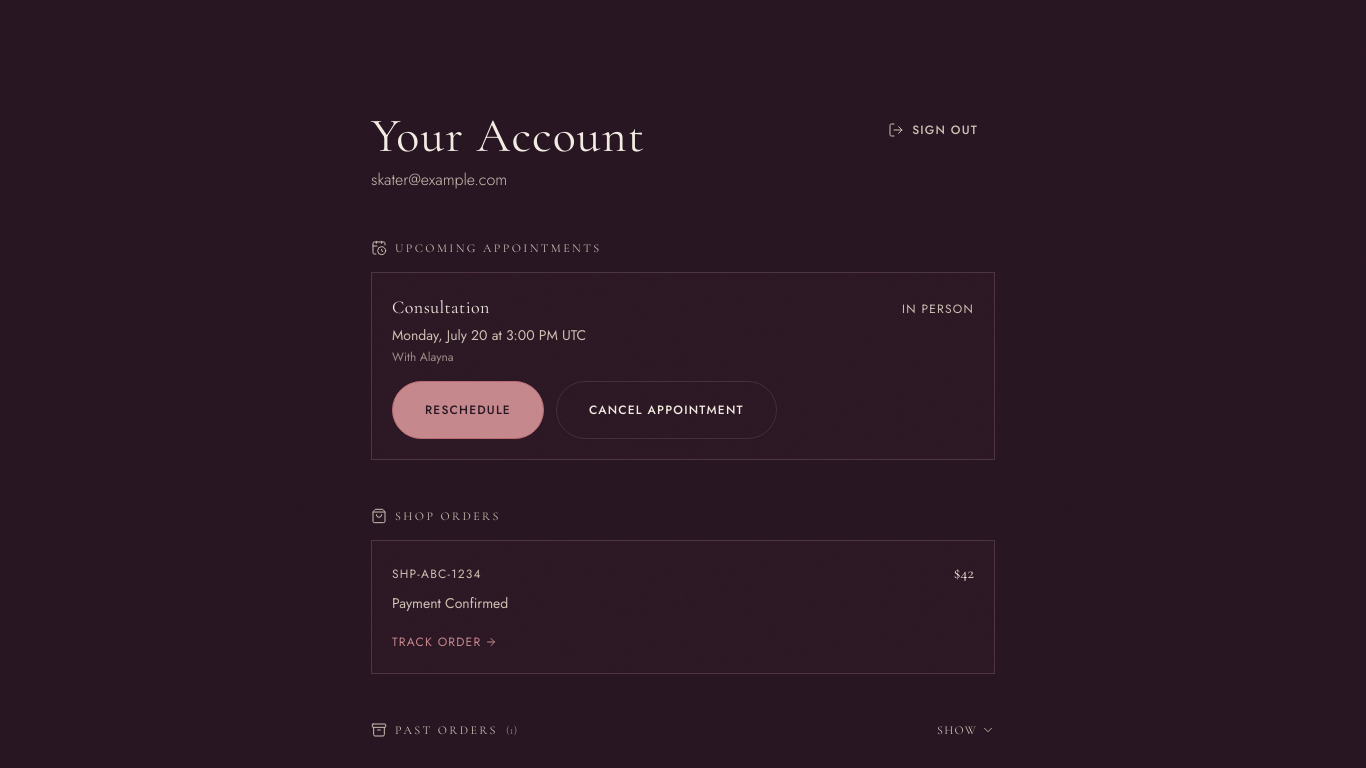
Scenario: Account dashboard › badges a cancelled order and drops its invoice link
The width and height of the screenshot is (1366, 768).
Click the button with test id "button-toggle-past-orders" at (966, 730), box [937,722,995,738]
(page scrolled)
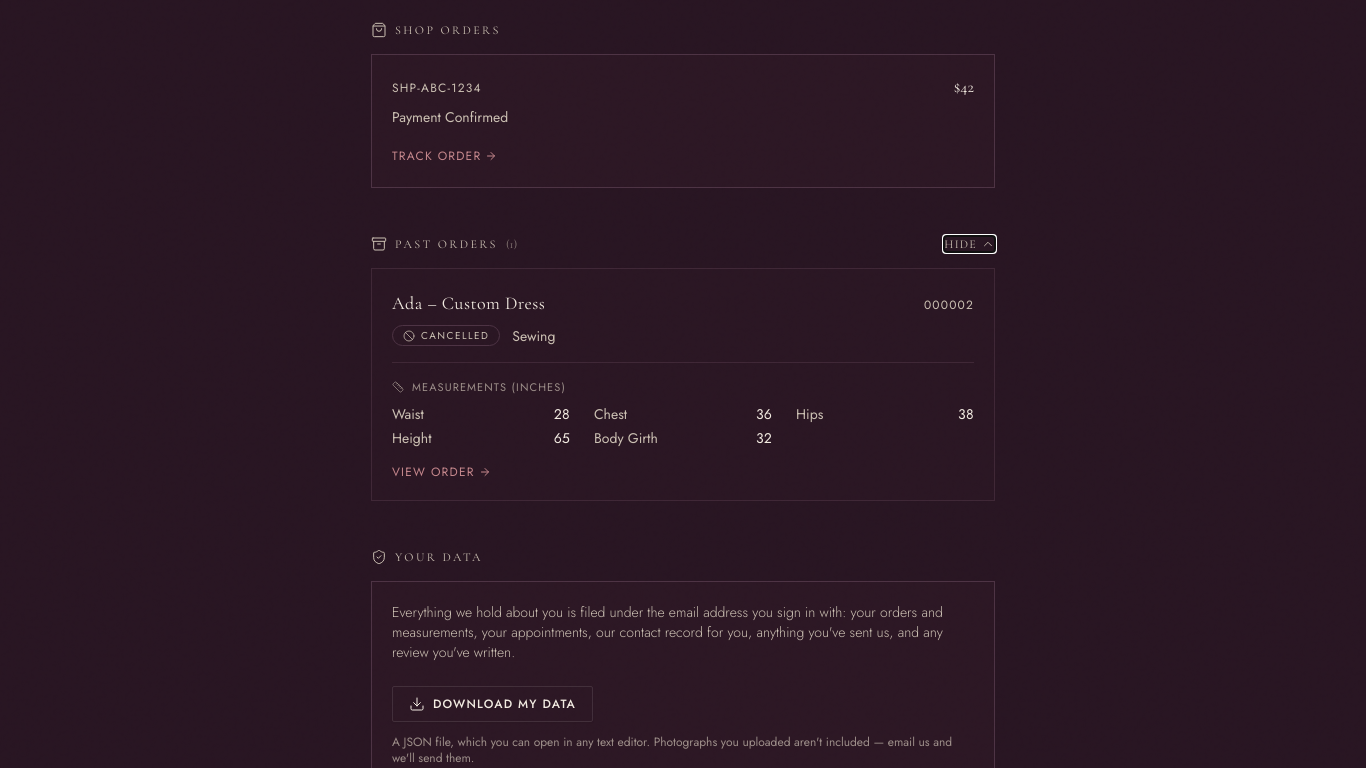
Check: the element with test id "custom-order-000002" shows "Cancelled", box [421,328,489,343]
